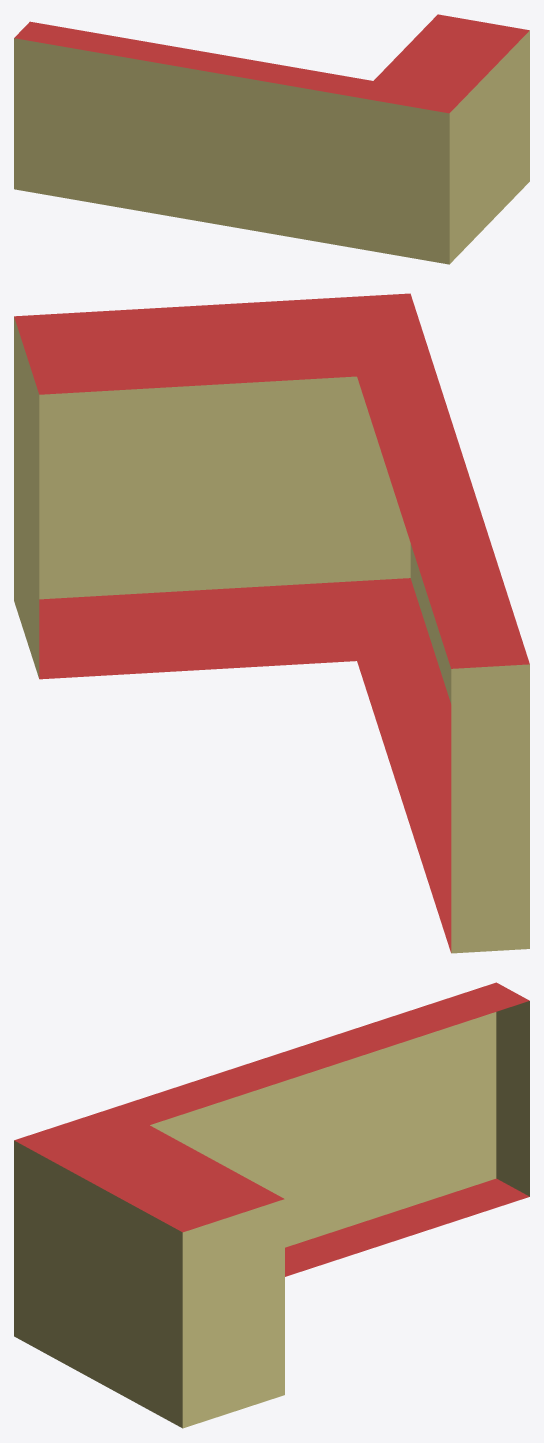
3 views of the same model, one above another, from view 1: azimuth 30°, elevation 25°; view 2: azimuth 150°, elevation 25°; view 3: azimuth 270°, elevation 25° (orthographic). The views are drawn at different scales.
Size of the model in its own units: 16.45 by 14.35 by 6.02.
